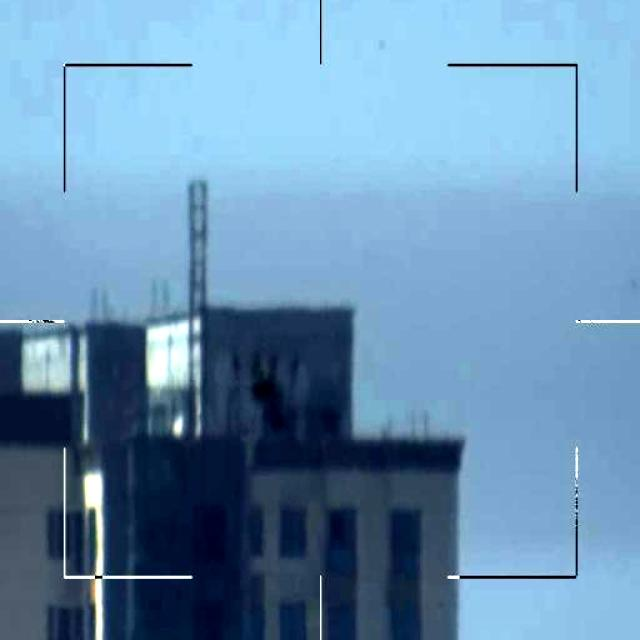bird: (231, 344, 311, 420)
